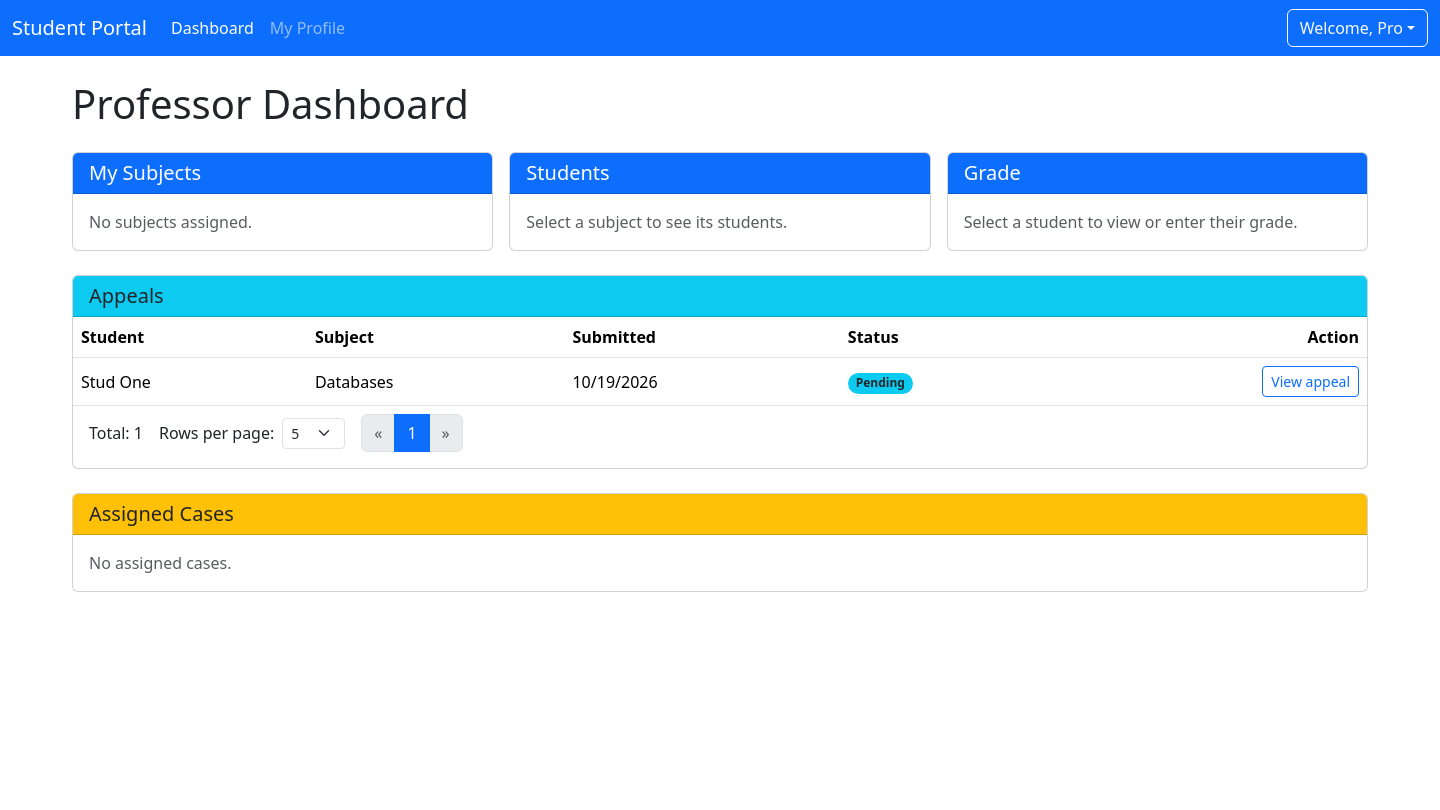
Test case: Professor appeals section (§5.4 + Task 18.6) › when a Pending appeal is clicked View appeal then Accept and Deny buttons are available
Click the button "View appeal" at (1311, 382), box x1=1262 y1=366 x2=1359 y2=397
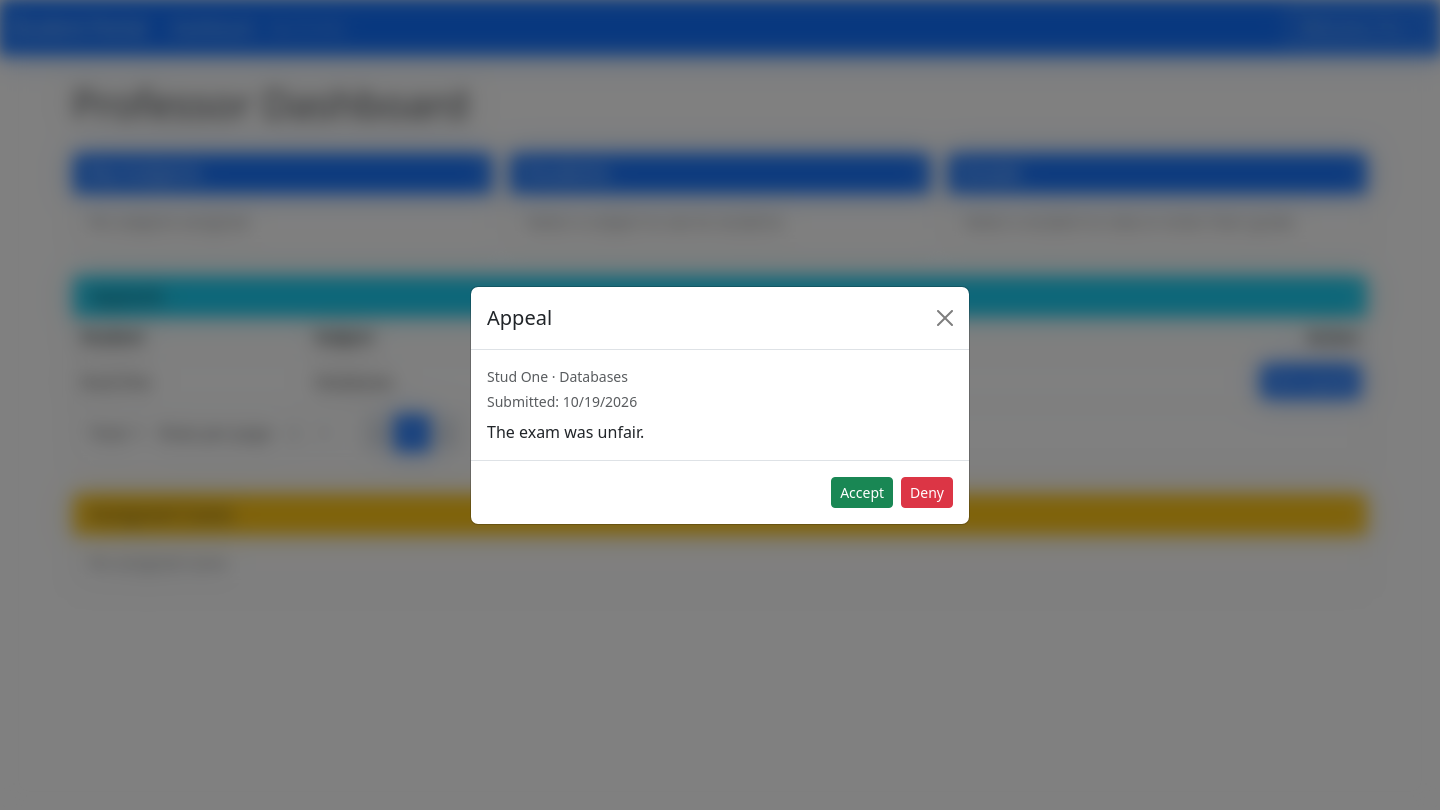
Now the dialog is shown, box x1=470 y1=286 x2=970 y2=524
Now the button "Accept" is shown, box x1=831 y1=476 x2=893 y2=508
Now the button "Deny" is shown, box x1=901 y1=476 x2=953 y2=508
